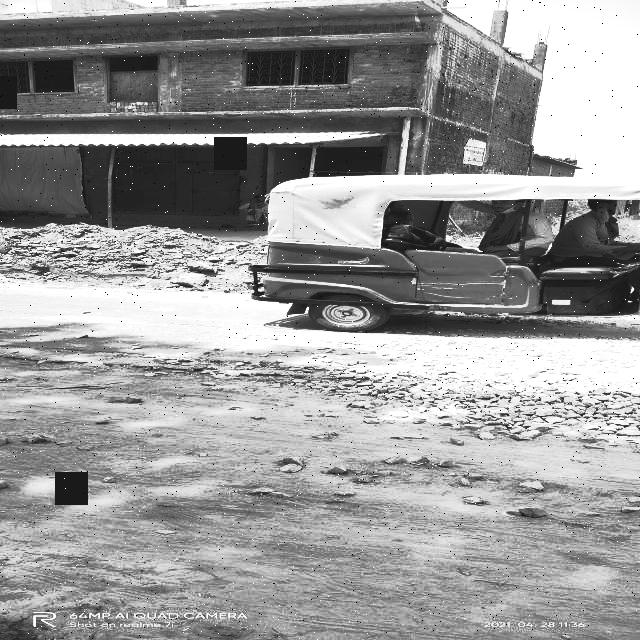Auto-Rickshaw: (247, 173, 640, 332)
